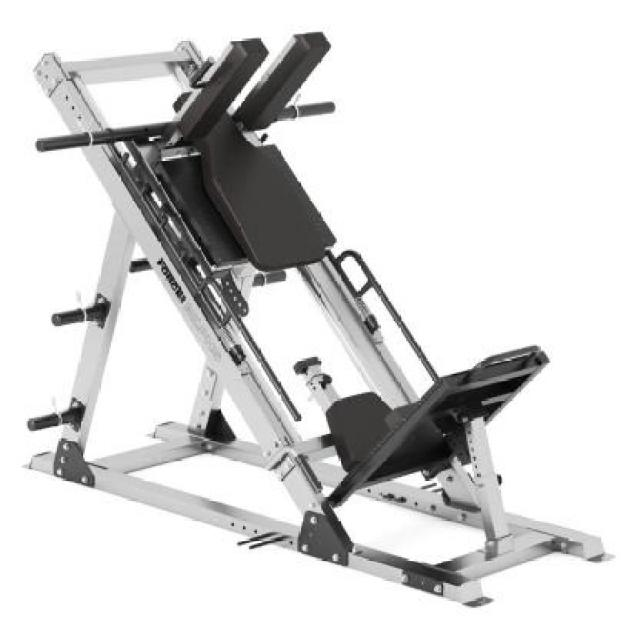leg press: (16, 21, 622, 617)
